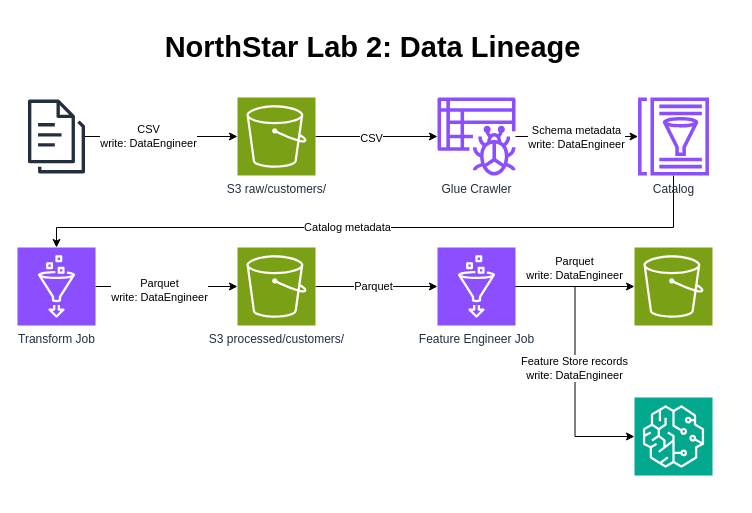
Some shapes in this 752 by 513 pixel diagram are drawn without their labels. Here are the shapes that lost their labels. From the top down, the box of each, then its label:
(28, 97, 84, 175): Source
(634, 246, 712, 326): S3 features/customers/
(634, 396, 712, 476): Feature Store
